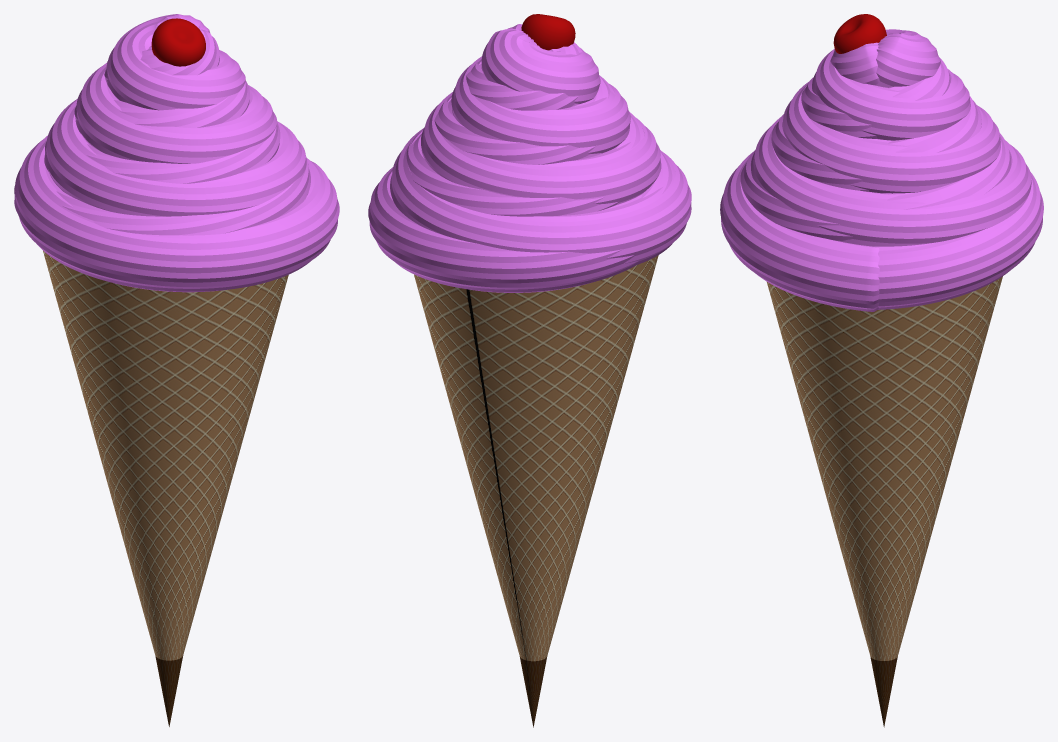
Rendered from IceCream.fbx.
The picture shows the model from 3 angles, left to right: view 1: azimuth 30°, elevation 25°; view 2: azimuth 150°, elevation 25°; view 3: azimuth 270°, elevation 25°; orthographic projection.
Visible parts, largest first — view 1: Loft001, Cone001, cherry2; view 2: Loft001, Cone001, cherry2; view 3: Loft001, Cone001, cherry2.
Part boxes in pixels (bbox=[...]): Loft001: bbox=[14, 14, 339, 292]; Cone001: bbox=[43, 251, 288, 726]; cherry2: bbox=[151, 18, 205, 66]; Loft001: bbox=[368, 24, 691, 292]; Cone001: bbox=[414, 255, 658, 727]; cherry2: bbox=[521, 14, 575, 50]; Loft001: bbox=[720, 29, 1043, 311]; Cone001: bbox=[767, 276, 1002, 727]; cherry2: bbox=[833, 14, 886, 53].
Size of the model in its own units: 116 by 278 by 115.
